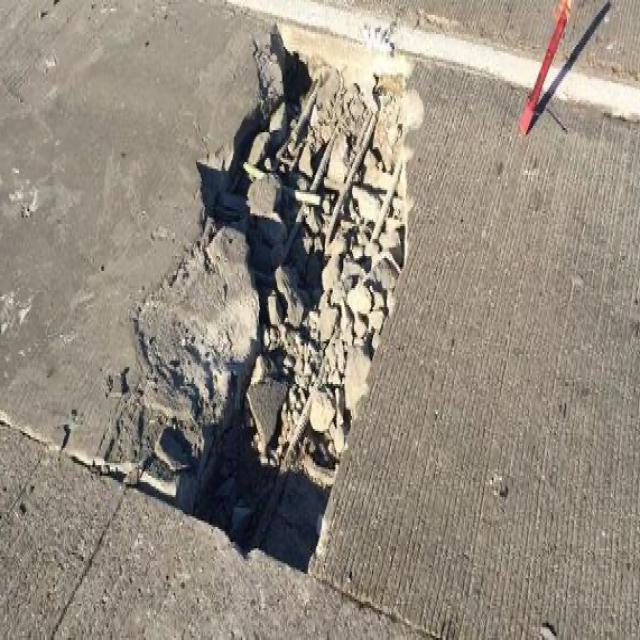pothole: (160, 17, 419, 583)
